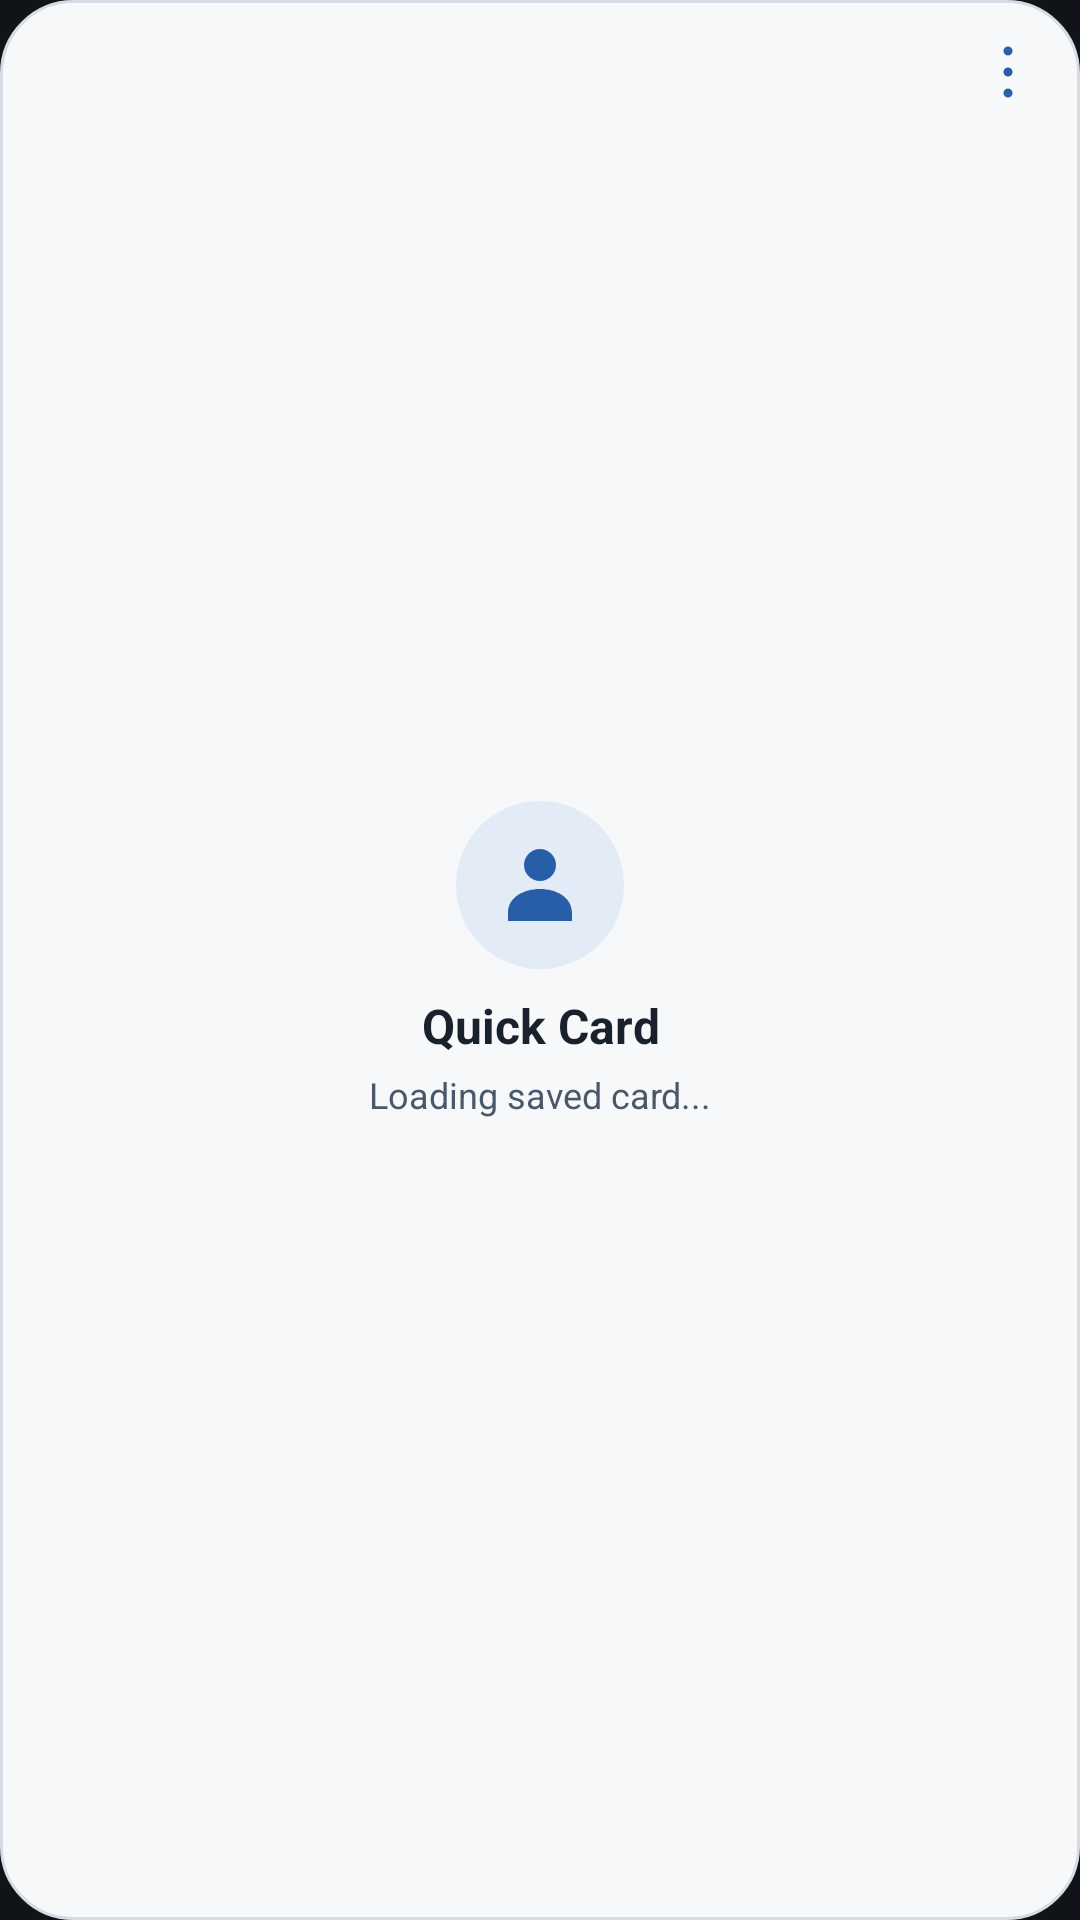

Point at icon controls on the screen. Image size 1080px×1920px, points as (x=x, y=y).
person: (x=540, y=885)
